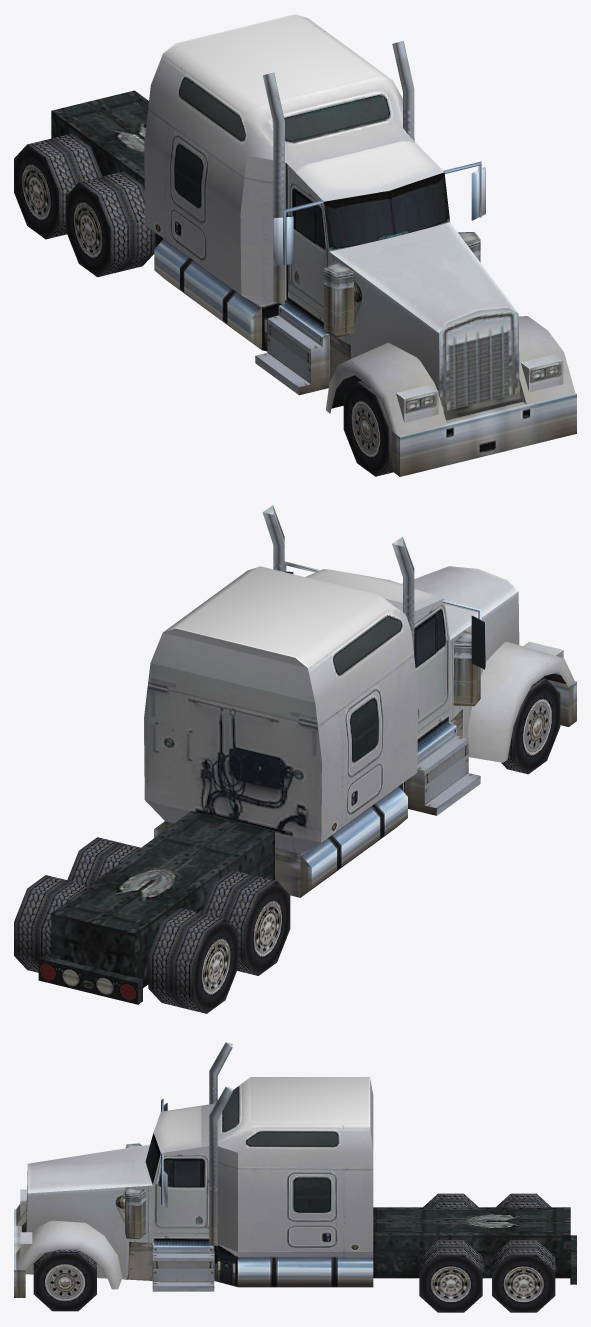
Rendered from Car_Kenworth.fbx.
3 views of the same model, one above another, from view 1: azimuth 30°, elevation 25°; view 2: azimuth 150°, elevation 25°; view 3: azimuth 270°, elevation 25° (orthographic). The views are drawn at different scales.
Parts seen in each view (by area): view 1: Car_Kenworth; view 2: Car_Kenworth; view 3: Car_Kenworth.
Part boxes in pixels (<box>): Car_Kenworth: <box>14,14,576,476</box>; Car_Kenworth: <box>14,505,576,1013</box>; Car_Kenworth: <box>14,1042,576,1312</box>.
Size of the model in its own units: 2.77 by 3.88 by 9.09.
